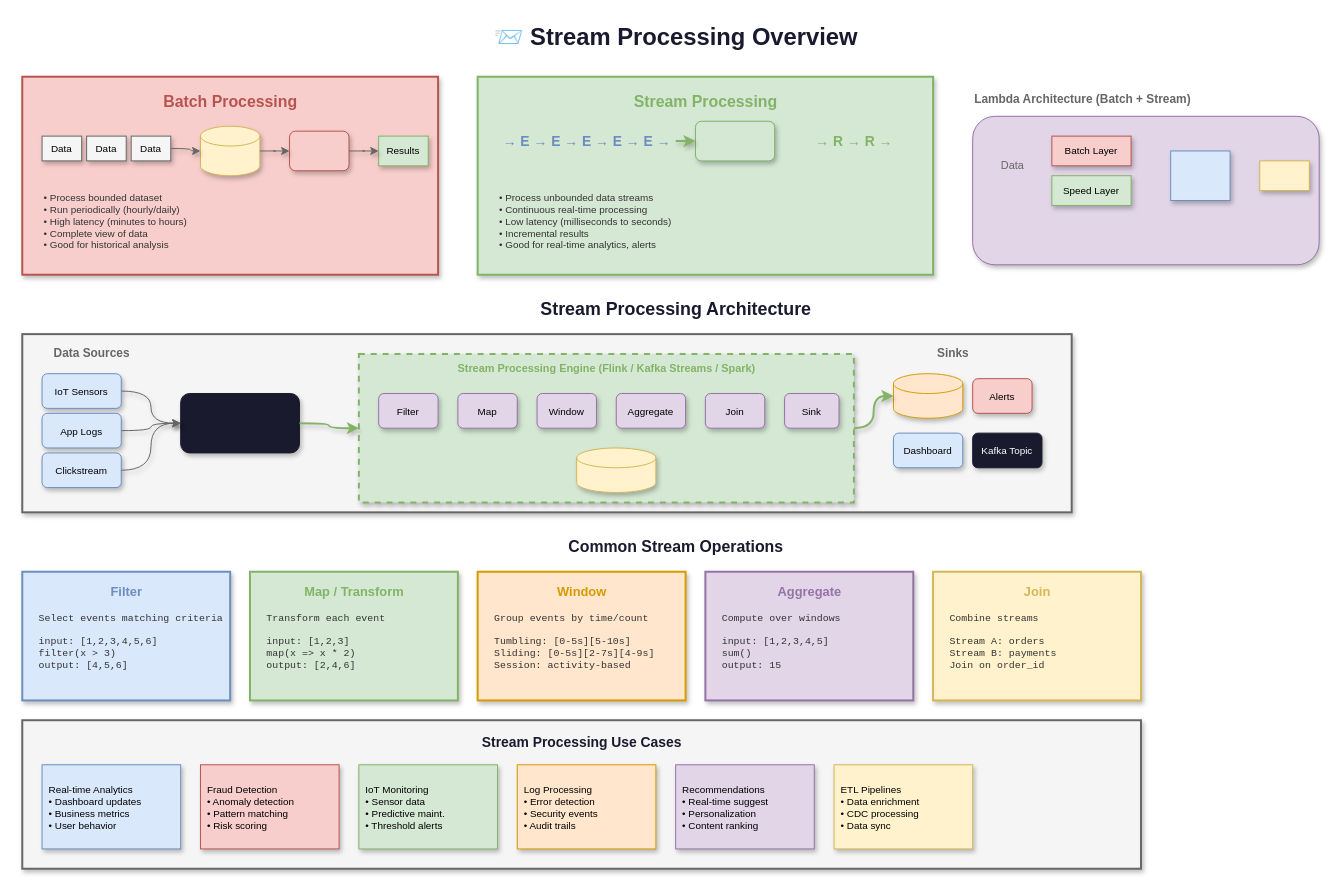
Image size: 1342x893. Some labels were removed from this diagram. Here are the shapes that lost their labels. From the top down, the centre of each, then its label:
At pixel 231 152: "Stored Data".
At pixel 320 152: "Batch Job".
At pixel 736 142: "Stream Processor".
At pixel 1201 176: "Serving Layer".
At pixel 1285 177: "Query".
At pixel 929 397: "Database".
At pixel 240 424: "Message Broker (Kafka)".
At pixel 617 471: "State Store".
